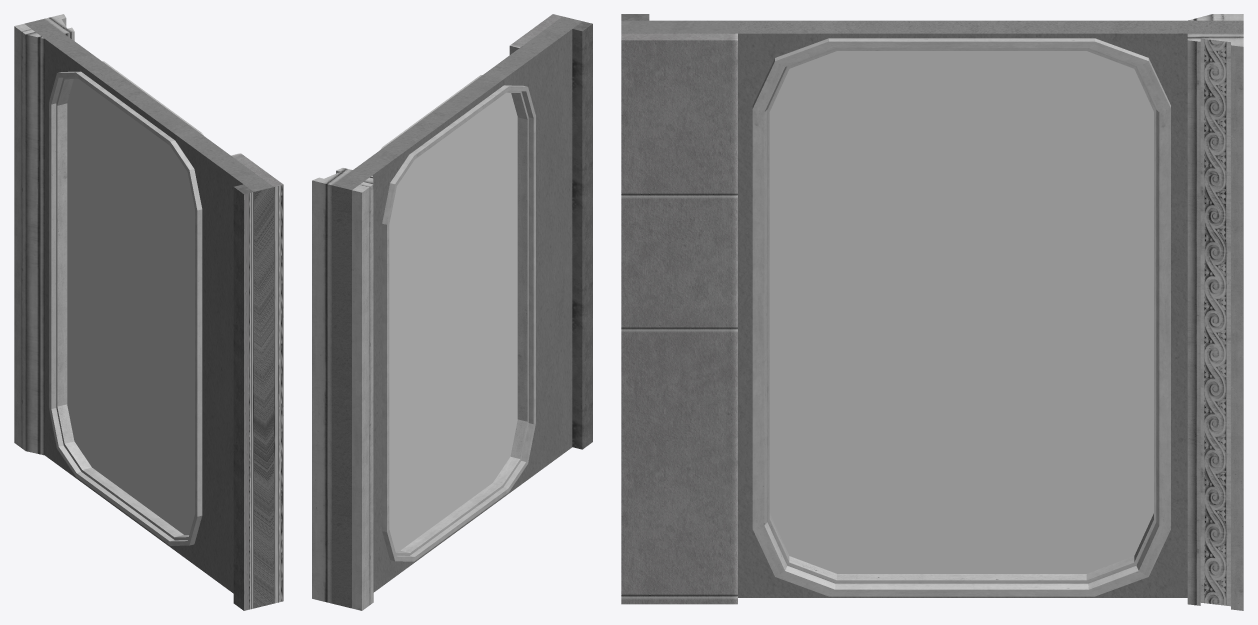
The model's file is A_wall_ 4m_big_window.fbx.
3 renders of one model, left to right at view 1: azimuth 30°, elevation 25°; view 2: azimuth 150°, elevation 25°; view 3: azimuth 270°, elevation 25°, orthographic. The views are drawn at different scales.
Parts seen in each view (by area): view 1: A_wall__4m_big_window, A_glass_011; view 2: A_wall__4m_big_window, A_glass_011; view 3: A_glass_011, A_wall__4m_big_window.
Part boxes in pixels (left/top/right/bottom): A_wall__4m_big_window: left=14, top=14, right=283, bottom=610; A_glass_011: left=67, top=79, right=194, bottom=534; A_wall__4m_big_window: left=312, top=14, right=592, bottom=610; A_glass_011: left=389, top=92, right=517, bottom=550; A_glass_011: left=769, top=51, right=1153, bottom=573; A_wall__4m_big_window: left=621, top=14, right=1243, bottom=610.
Bounding box in the file's own units: 0.5 × 4 × 4.
